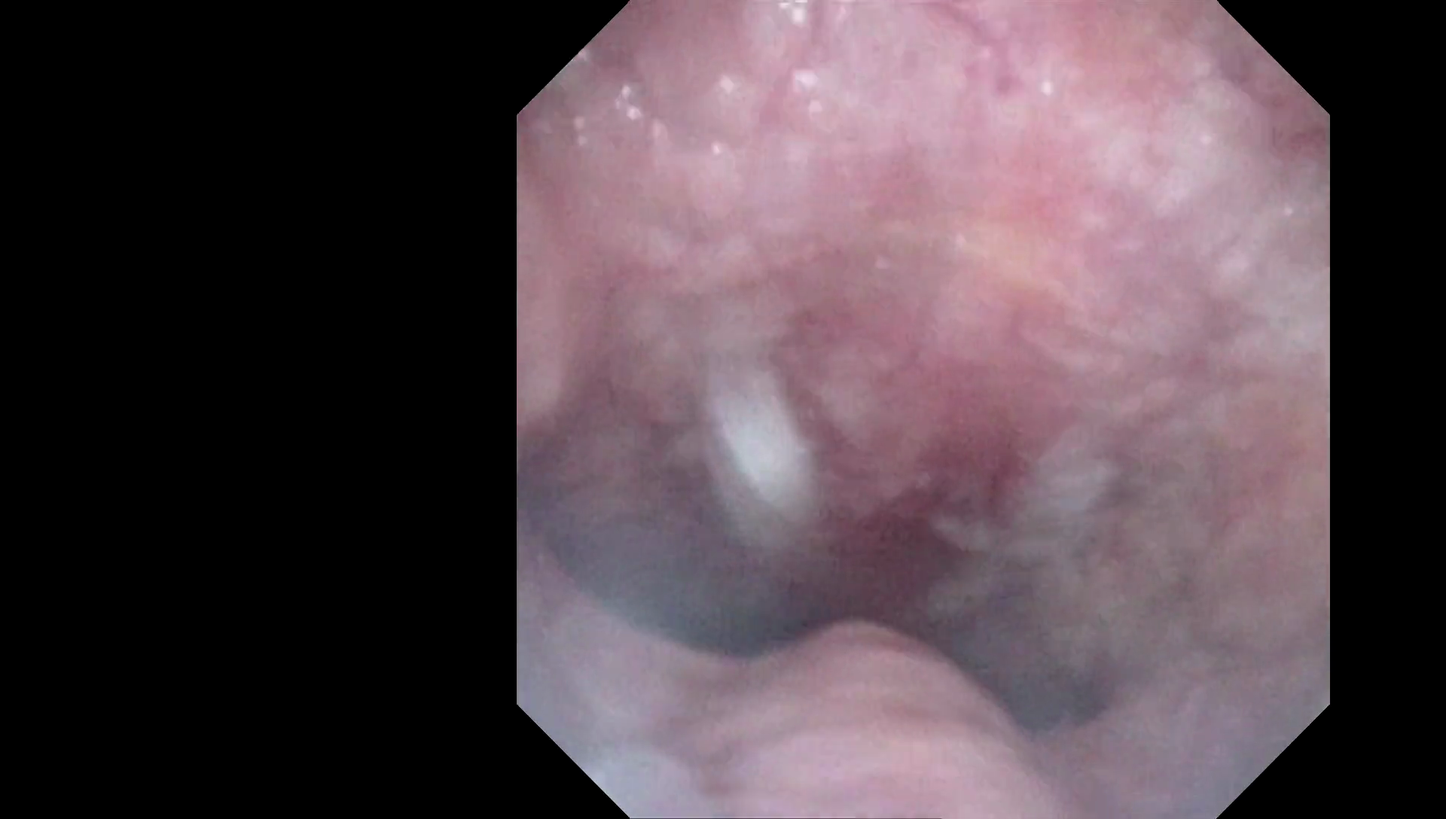next: (836, 550, 1125, 767), (541, 498, 864, 686)
